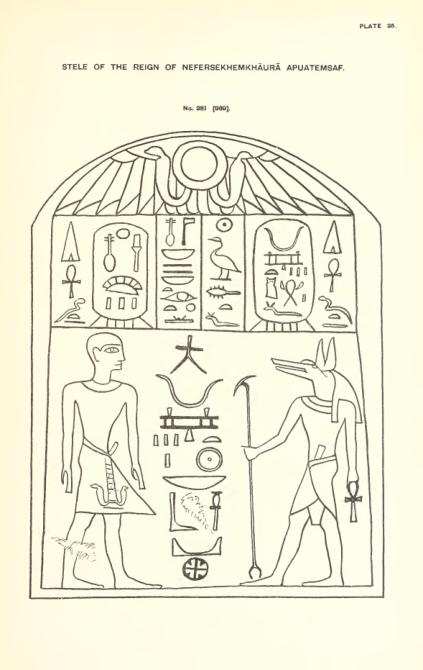circle: (252, 217, 316, 326), (90, 220, 153, 324)
